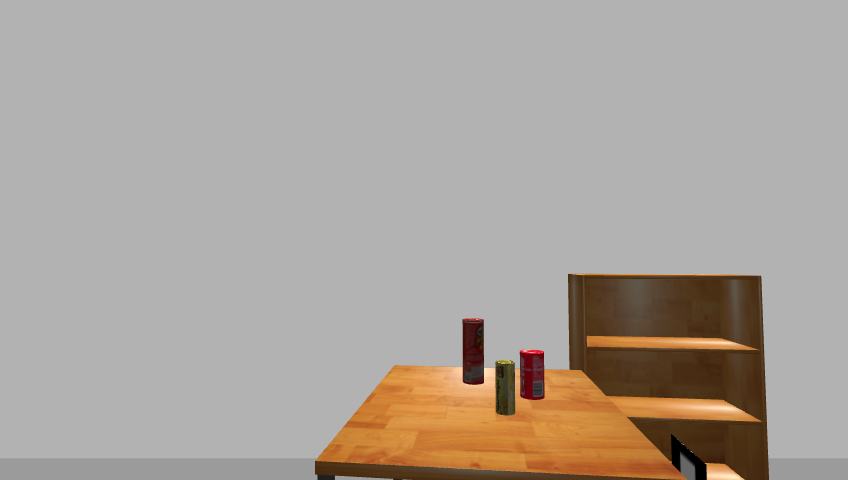aruco marker: (666, 435, 710, 480)
biscuits pack: (495, 361, 516, 416)
bookshelf: (564, 271, 773, 479)
coke can: (519, 349, 546, 401)
dinner table: (308, 364, 688, 480)
pringles can: (459, 317, 486, 386)
